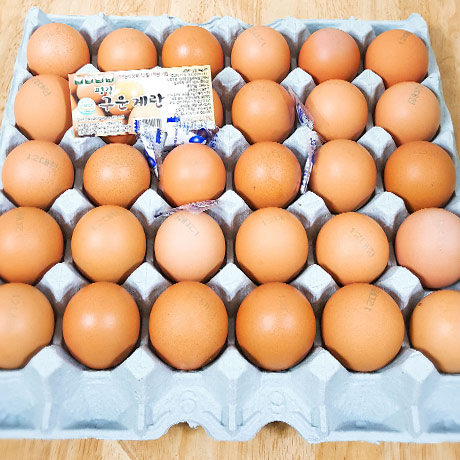egg: (3, 25, 460, 373)
